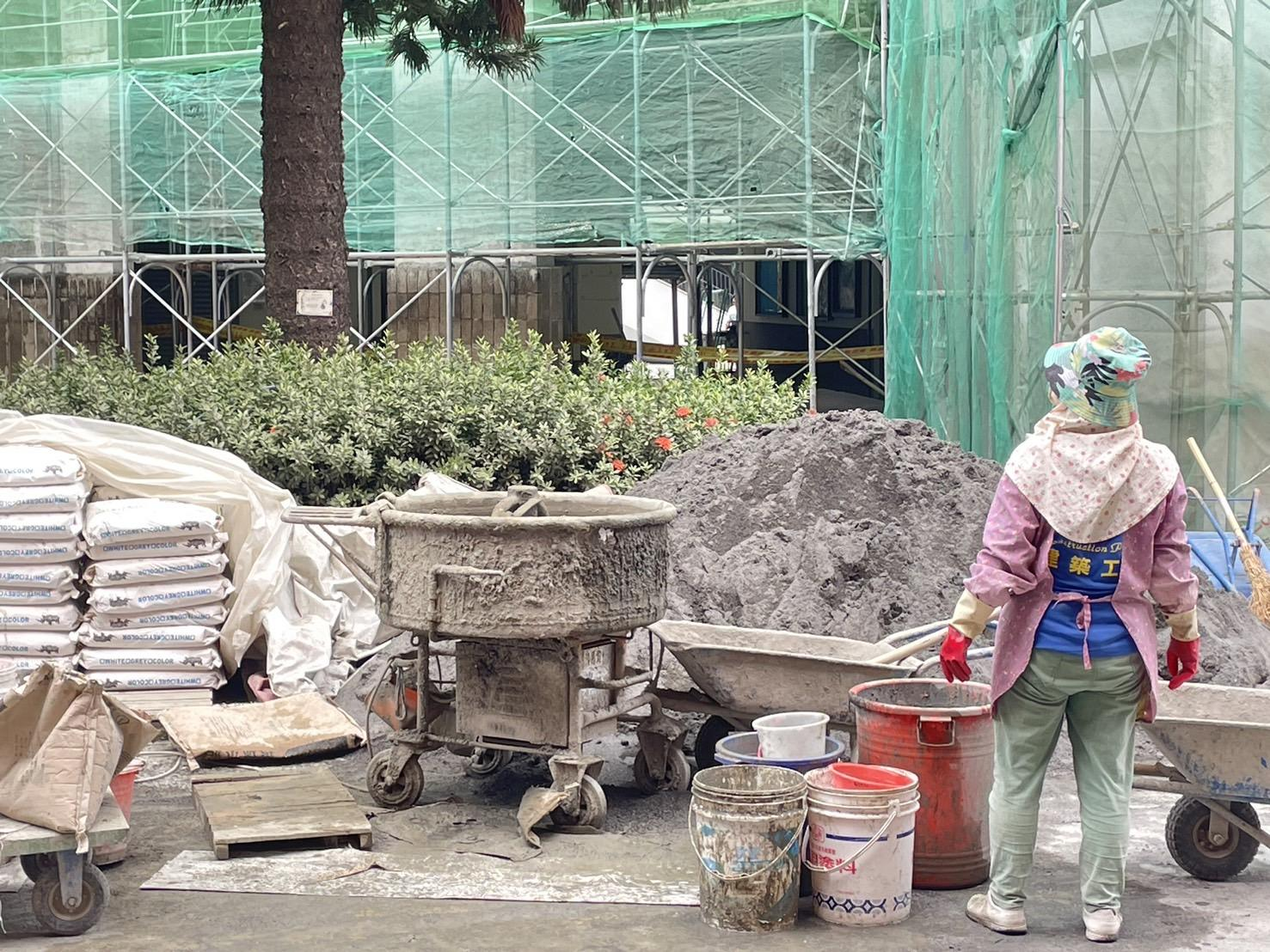NoHelmet: (1042, 325, 1148, 420)
NoVest: (1012, 432, 1168, 684)
